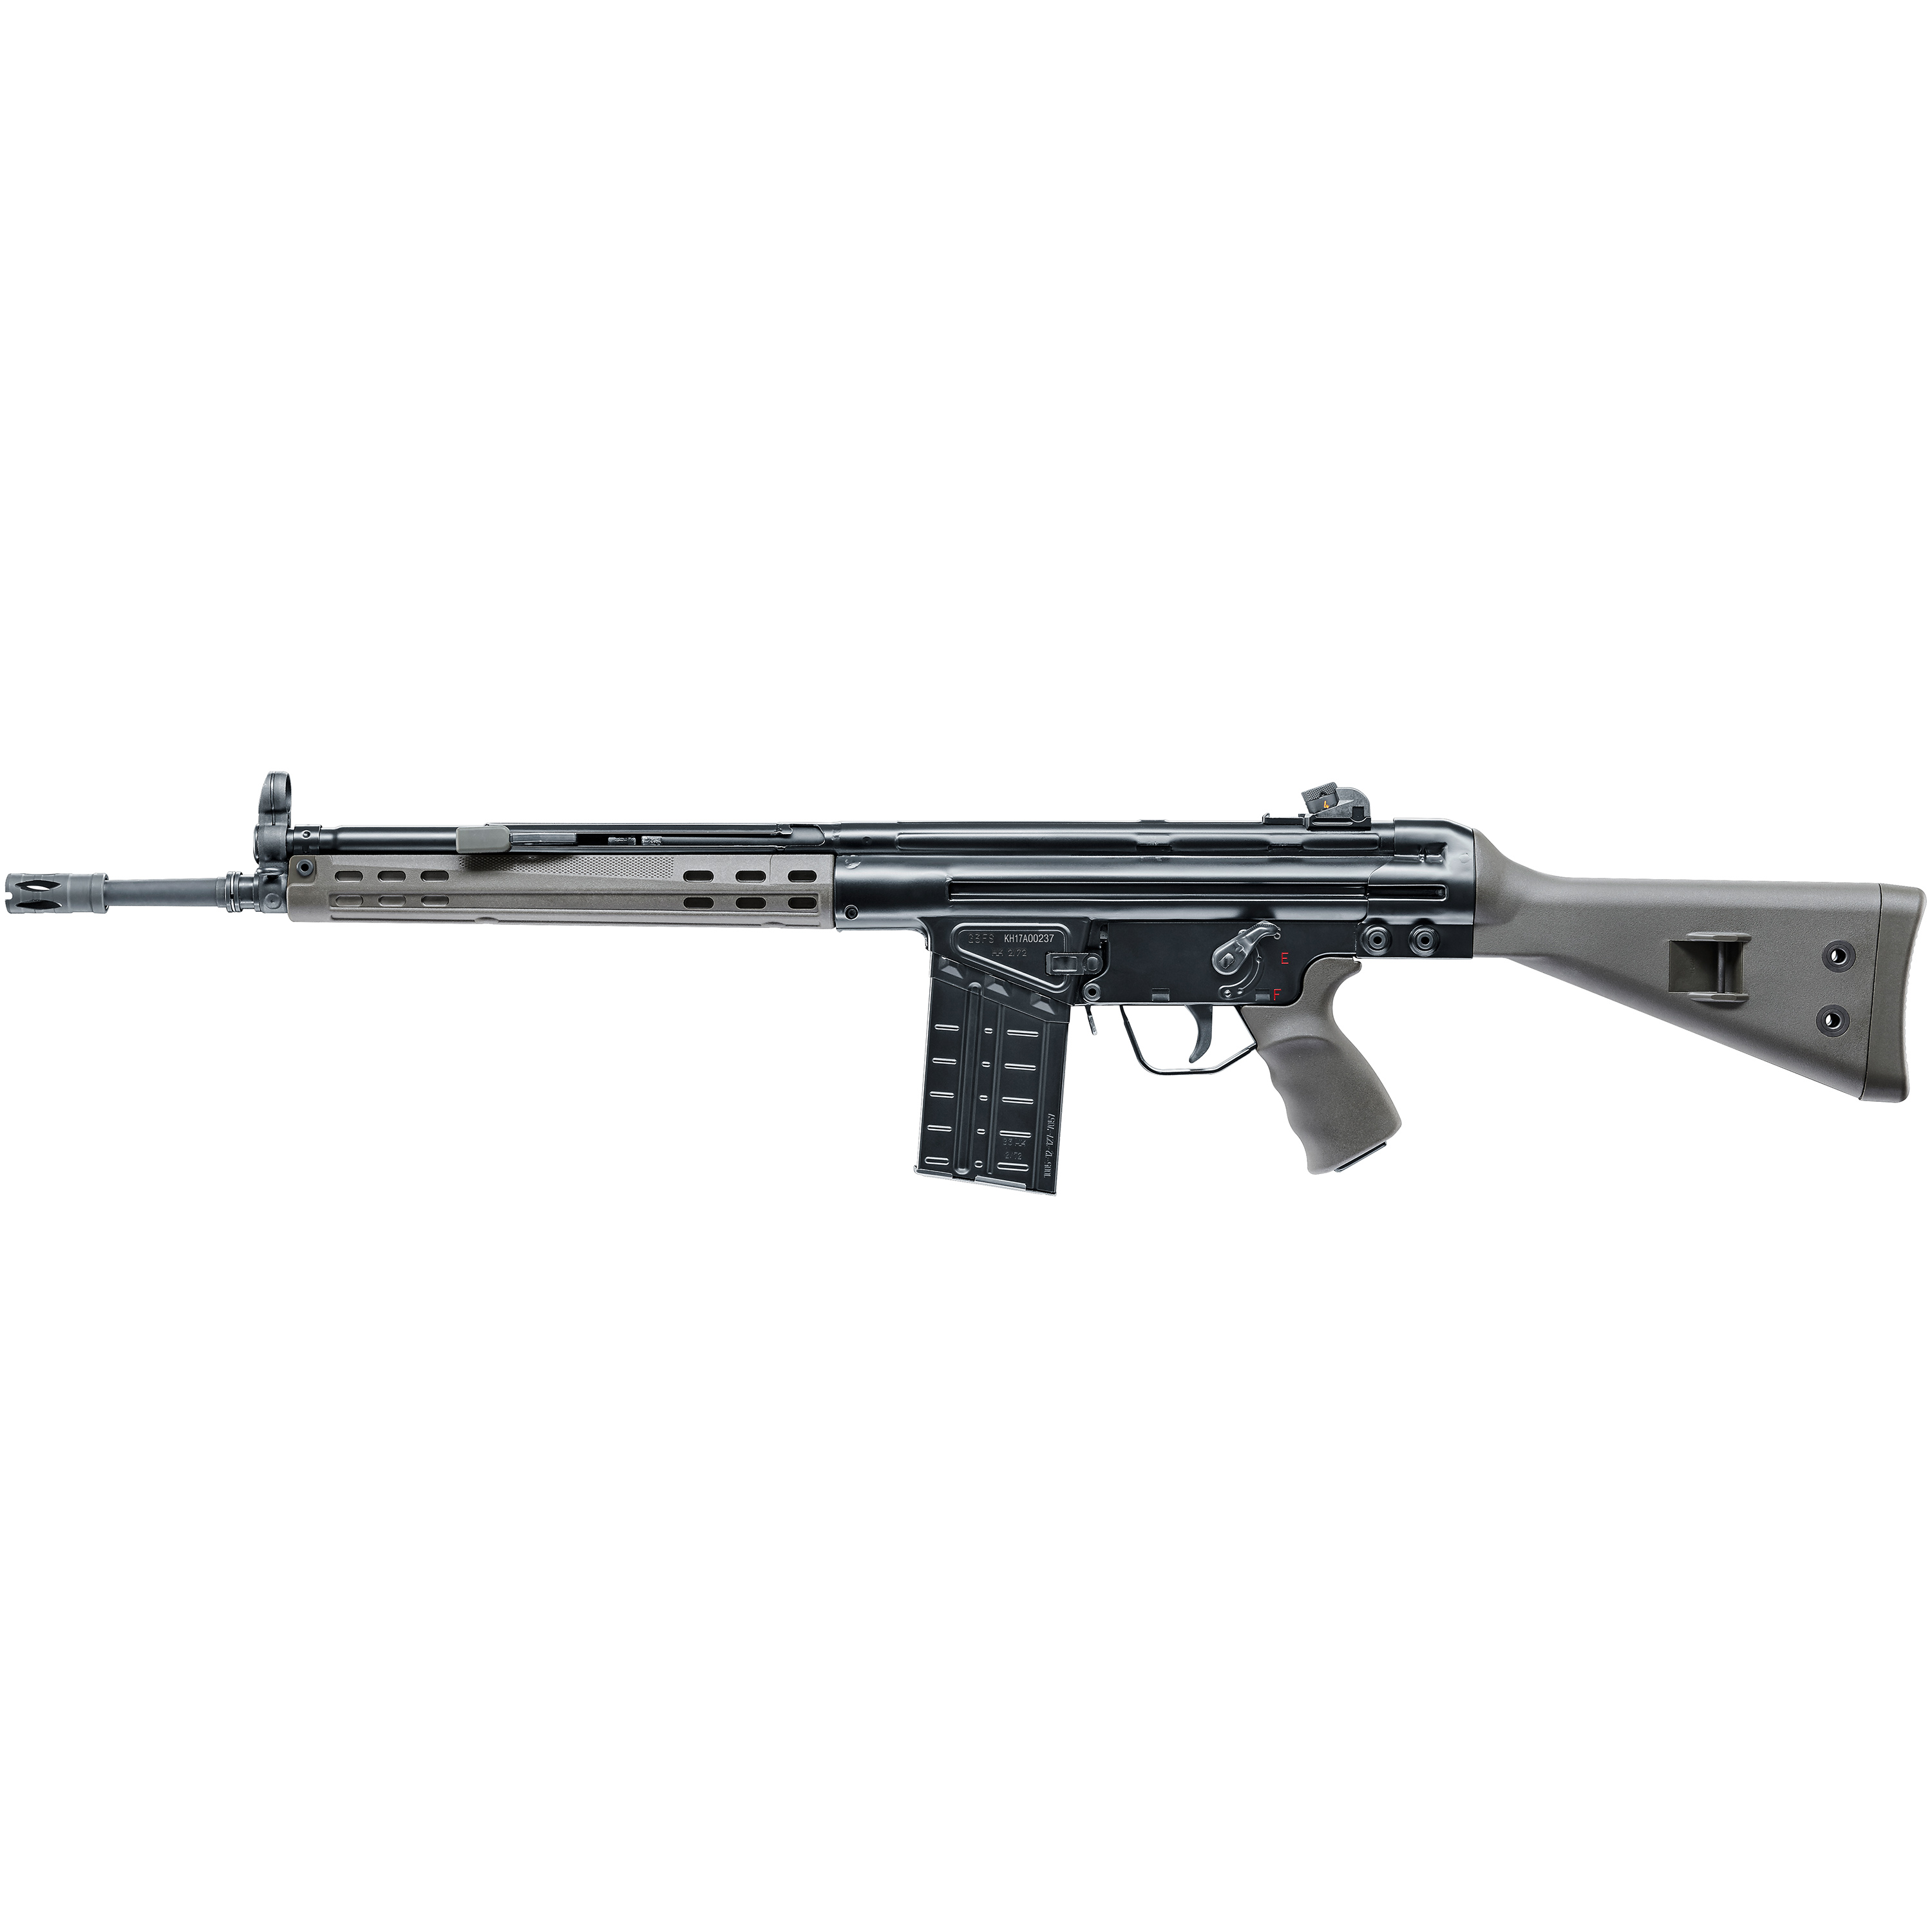Arma Real: (0, 770, 1897, 1189)
